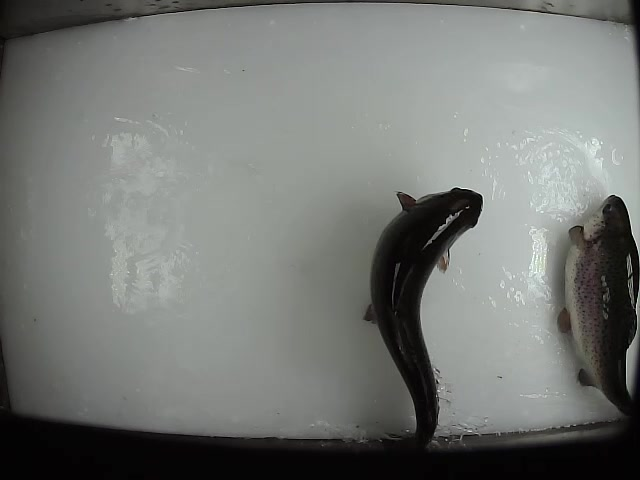fish: (351, 185, 489, 467), (556, 194, 640, 431)
